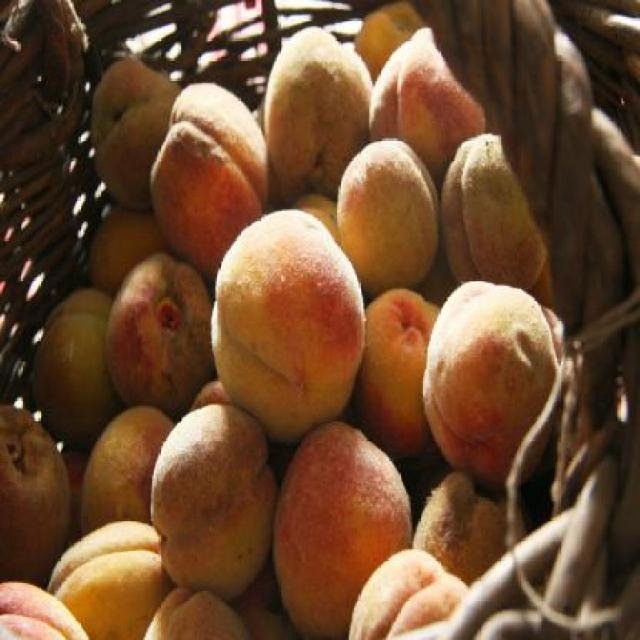Peach: (0, 0, 567, 638)
